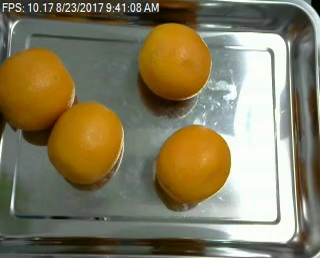Orange: (48, 101, 124, 185), (1, 47, 75, 132), (153, 124, 230, 204), (138, 22, 212, 100)
